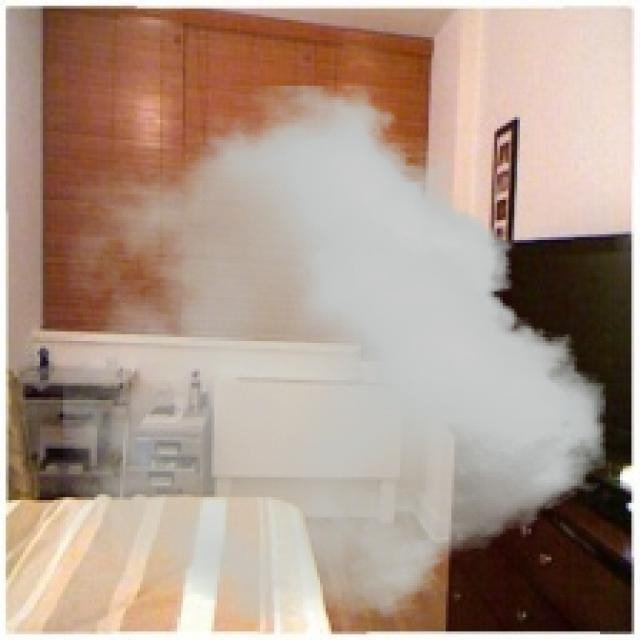Smoke: (63, 85, 606, 626)
